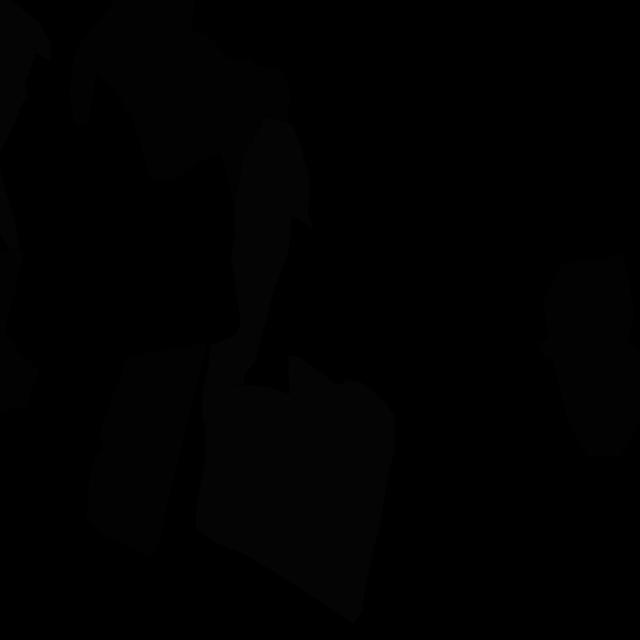cardboard: (69, 0, 291, 205), (86, 343, 207, 557), (538, 253, 640, 458), (0, 248, 40, 413)
soft_plastic: (196, 356, 395, 623), (202, 117, 313, 427)
